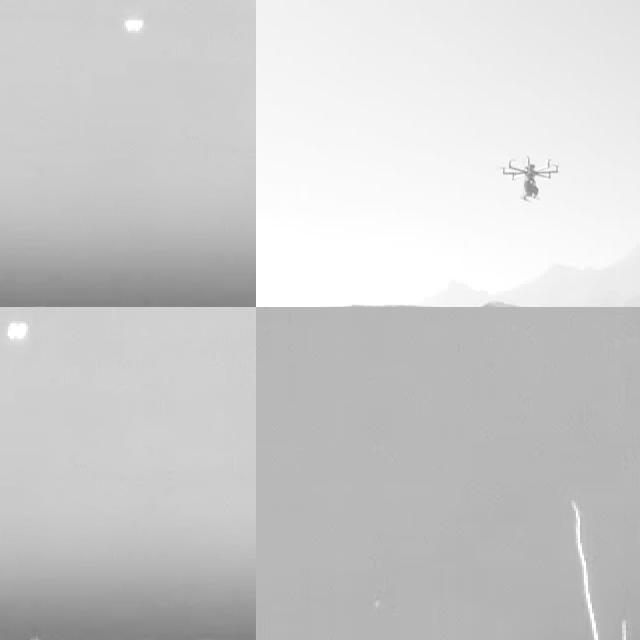0: (364, 590, 384, 618)
1: (114, 14, 150, 44), (0, 320, 34, 350)
drone: (496, 151, 561, 202)
